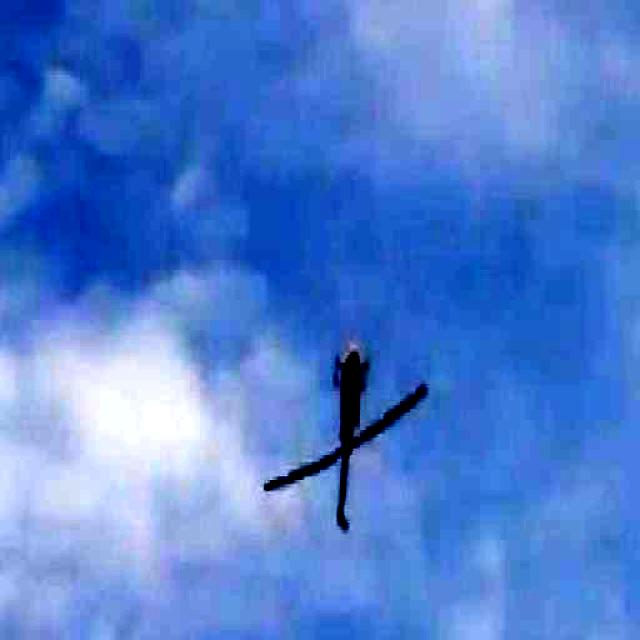drone: (290, 315, 410, 572)
